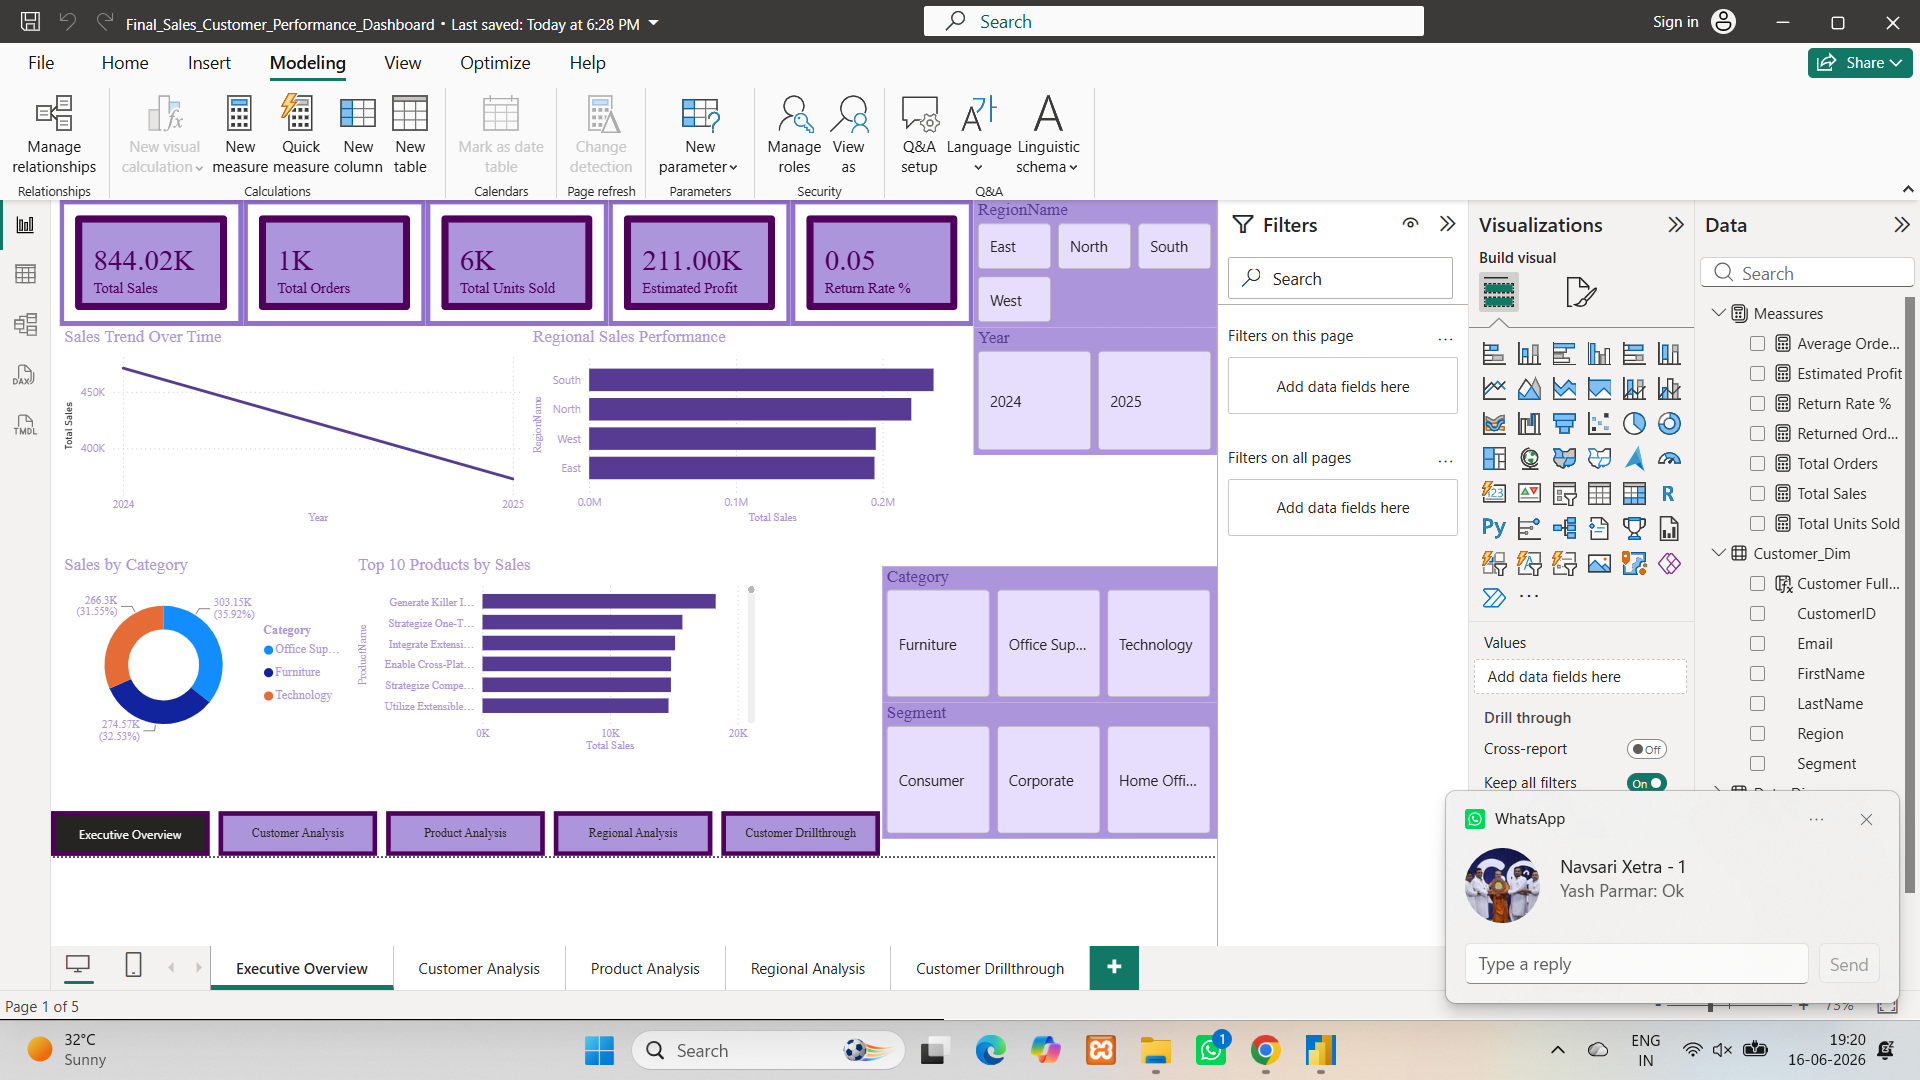

What the dashboard file says about the page in this screenshot:
{"tool":"powerbi","page":{"name":"Executive Overview","canvas":[1280,720],"ordinal":0},"visuals":[{"type":"cardVisual","fields":{"Data":["Meassures.Total Sales"]},"box":[9.6,0,201.7,138.6],"z":0},{"type":"cardVisual","fields":{"Data":["Meassures.Total Orders"]},"box":[211.3,0,200.3,138.6],"z":1000},{"type":"cardVisual","fields":{"Data":["Meassures.Total Units Sold"]},"box":[411.7,0,200.3,138.6],"z":2000},{"type":"cardVisual","fields":{"Data":["Meassures.Estimated Profit"]},"box":[612,0,200.3,138.6],"z":3000},{"type":"cardVisual","fields":{"Data":["Meassures.Return Rate %"]},"box":[812.4,0,200.3,138.6],"z":4000},{"type":"lineChart","title":"Sales Trend Over Time","fields":{"Category":["Date_Dim.Date.Variation.Date Hierarchy.Year","Date_Dim.Date.Variation.Date Hierarchy.Quarter","Date_Dim.Date.Variation.Date Hierarchy.Month","Date_Dim.Date.Variation.Date Hierarchy.Day"],"Y":["Meassures.Total Sales"]},"box":[9.6,138.6,514.6,220.9],"z":5000},{"type":"clusteredBarChart","title":"Regional Sales Performance","fields":{"Category":["Region_Dim.RegionName"],"Y":["Meassures.Total Sales"]},"box":[524.2,138.6,488.5,220.9],"z":6000},{"type":"donutChart","title":" Sales by Category","fields":{"Category":["Product_Dim.Category"],"Y":["Meassures.Total Sales"]},"box":[9.6,389.7,322.5,220.9],"z":7000},{"type":"clusteredBarChart","title":"Top 10 Products by Sales","fields":{"Category":["Product_Dim.ProductName"],"Y":["Meassures.Total Sales"]},"box":[332.1,389.7,446,220.9],"z":8000},{"type":"advancedSlicerVisual","fields":{"Values":["Date_Dim.Year"]},"box":[1012.7,140,267.6,140],"z":9000},{"type":"advancedSlicerVisual","fields":{"Values":["Region_Dim.RegionName"]},"box":[1012.7,0,267.6,140],"z":10000},{"type":"advancedSlicerVisual","fields":{"Values":["Customer_Dim.Segment"]},"box":[912.5,551.6,367.8,149.6],"z":11000},{"type":"advancedSlicerVisual","fields":{"Values":["Product_Dim.Category"]},"box":[912.5,402.1,367.8,149.6],"z":12000}]}

Visuals, with their boxes on the page's 1280x720 design canvas (x1, y1, x2, y2). These are canvas units, not pixel positions in the 1920x1080 screenshot, which may show the page scaled, cropped or inside an application window:
cardVisual - Meassures.Total Sales: x1=10 y1=0 x2=211 y2=139
cardVisual - Meassures.Total Orders: x1=211 y1=0 x2=412 y2=139
cardVisual - Meassures.Total Units Sold: x1=412 y1=0 x2=612 y2=139
cardVisual - Meassures.Estimated Profit: x1=612 y1=0 x2=812 y2=139
cardVisual - Meassures.Return Rate %: x1=812 y1=0 x2=1013 y2=139
"Sales Trend Over Time" lineChart: x1=10 y1=139 x2=524 y2=360
"Regional Sales Performance" clusteredBarChart: x1=524 y1=139 x2=1013 y2=360
" Sales by Category" donutChart: x1=10 y1=390 x2=332 y2=611
"Top 10 Products by Sales" clusteredBarChart: x1=332 y1=390 x2=778 y2=611
advancedSlicerVisual - Date_Dim.Year: x1=1013 y1=140 x2=1280 y2=280
advancedSlicerVisual - Region_Dim.RegionName: x1=1013 y1=0 x2=1280 y2=140
advancedSlicerVisual - Customer_Dim.Segment: x1=912 y1=552 x2=1280 y2=701
advancedSlicerVisual - Product_Dim.Category: x1=912 y1=402 x2=1280 y2=552
